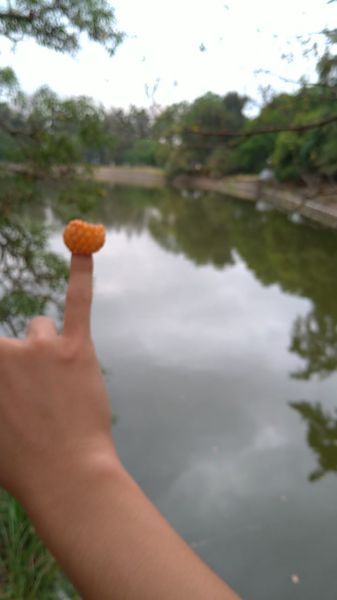eggs: (61, 219, 108, 257)
